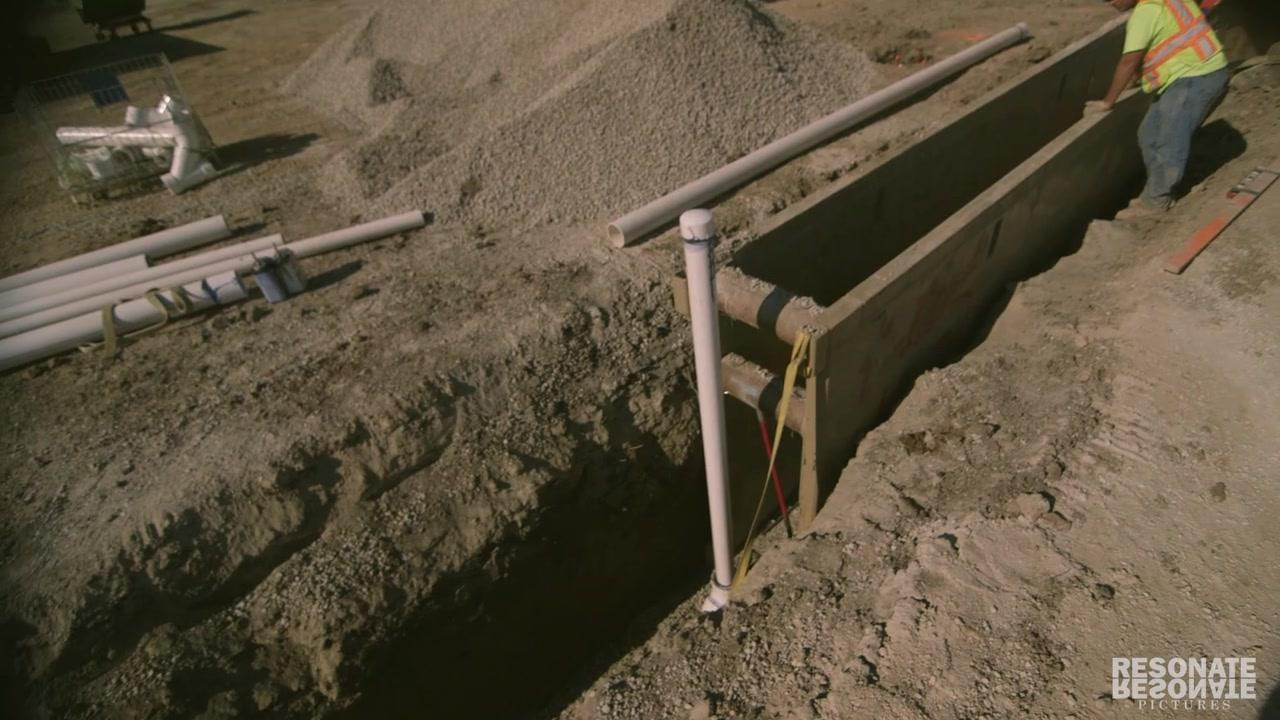Glass: (1125, 0, 1231, 69)
